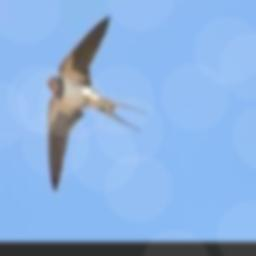Swallow: (44, 16, 147, 191)
